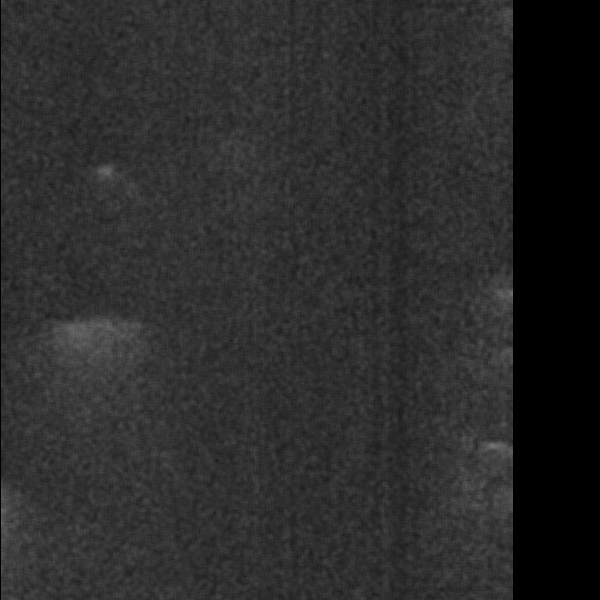spark: (17, 318, 145, 412), (468, 433, 519, 460), (87, 164, 119, 186)
